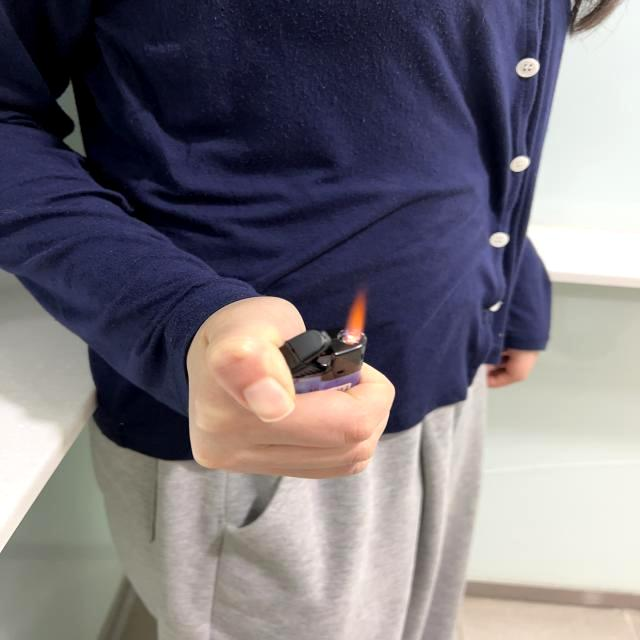fire: (342, 285, 366, 339)
